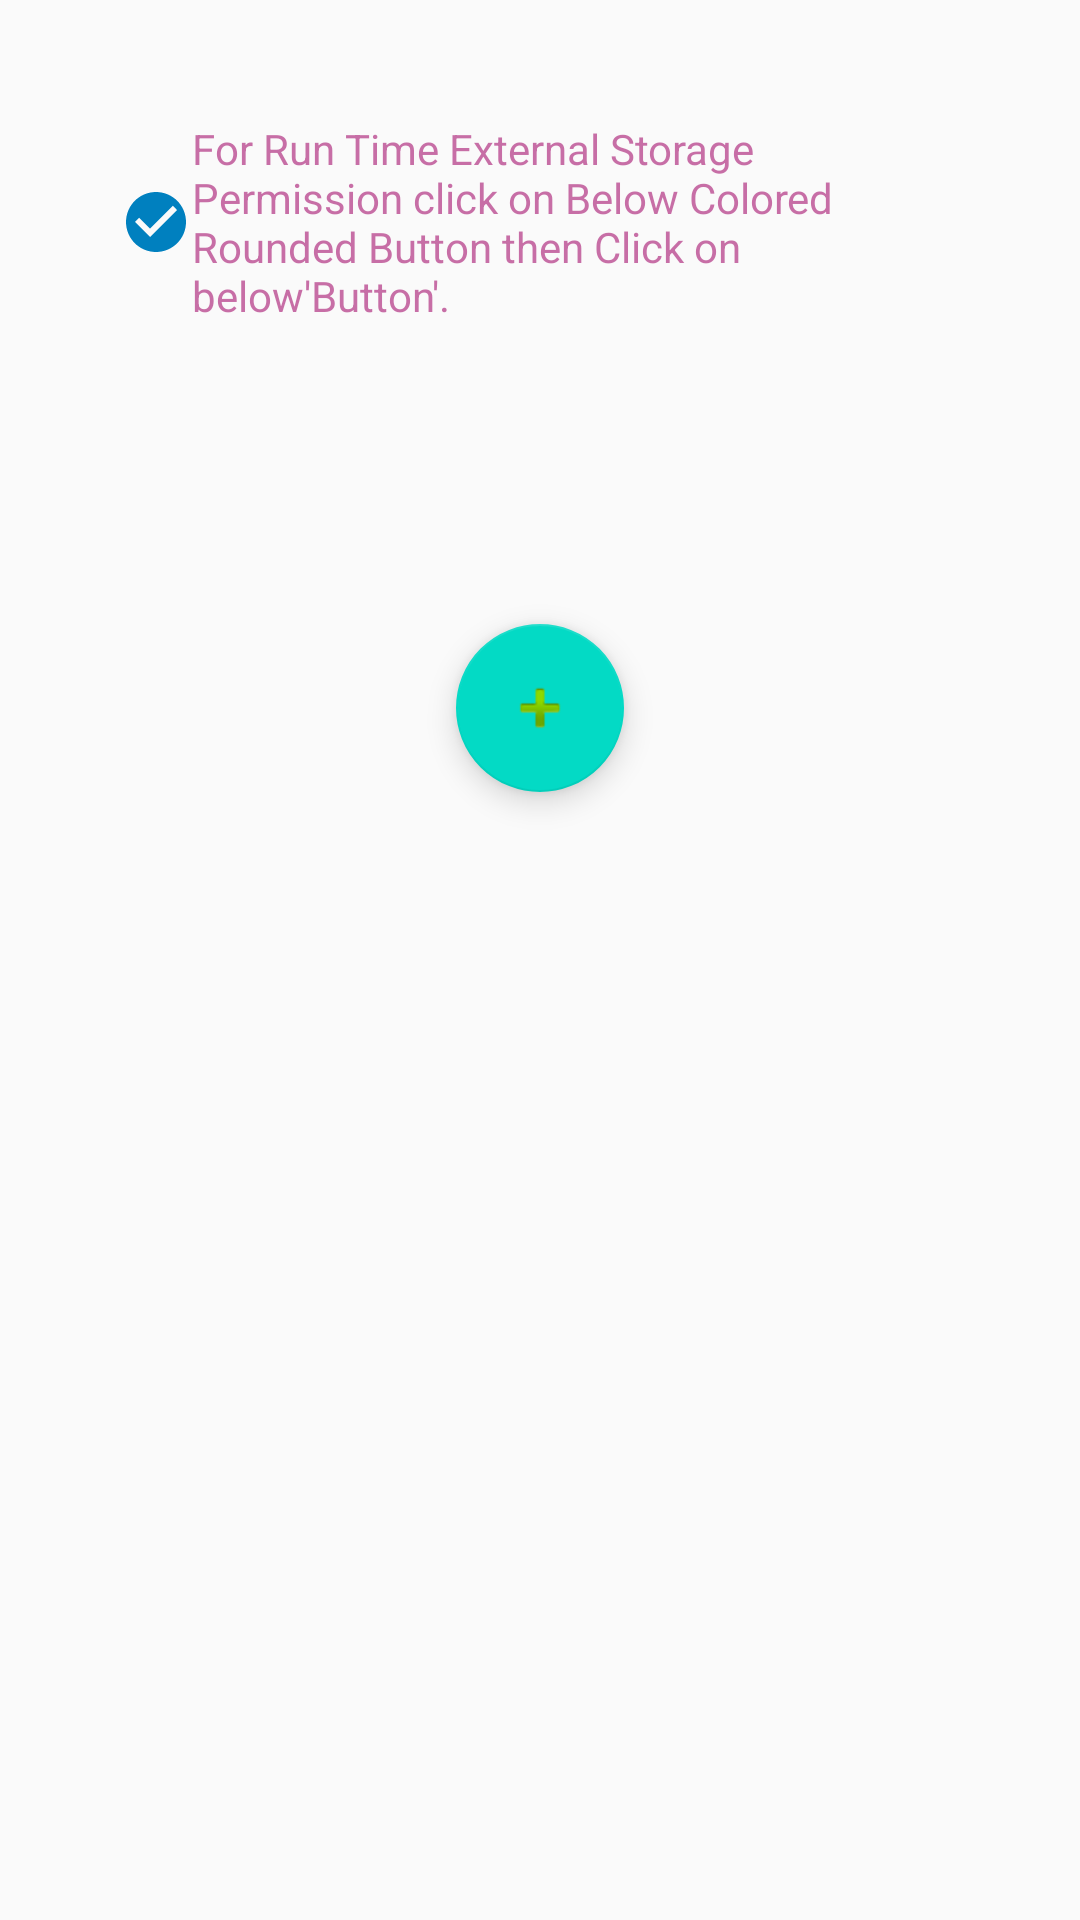

Locate icon controls on the screen. Image size 1080px x 1920px, boxes as [left=x1, top=y1, right=x2, bottom=y2].
add: [left=456, top=624, right=624, bottom=792]
